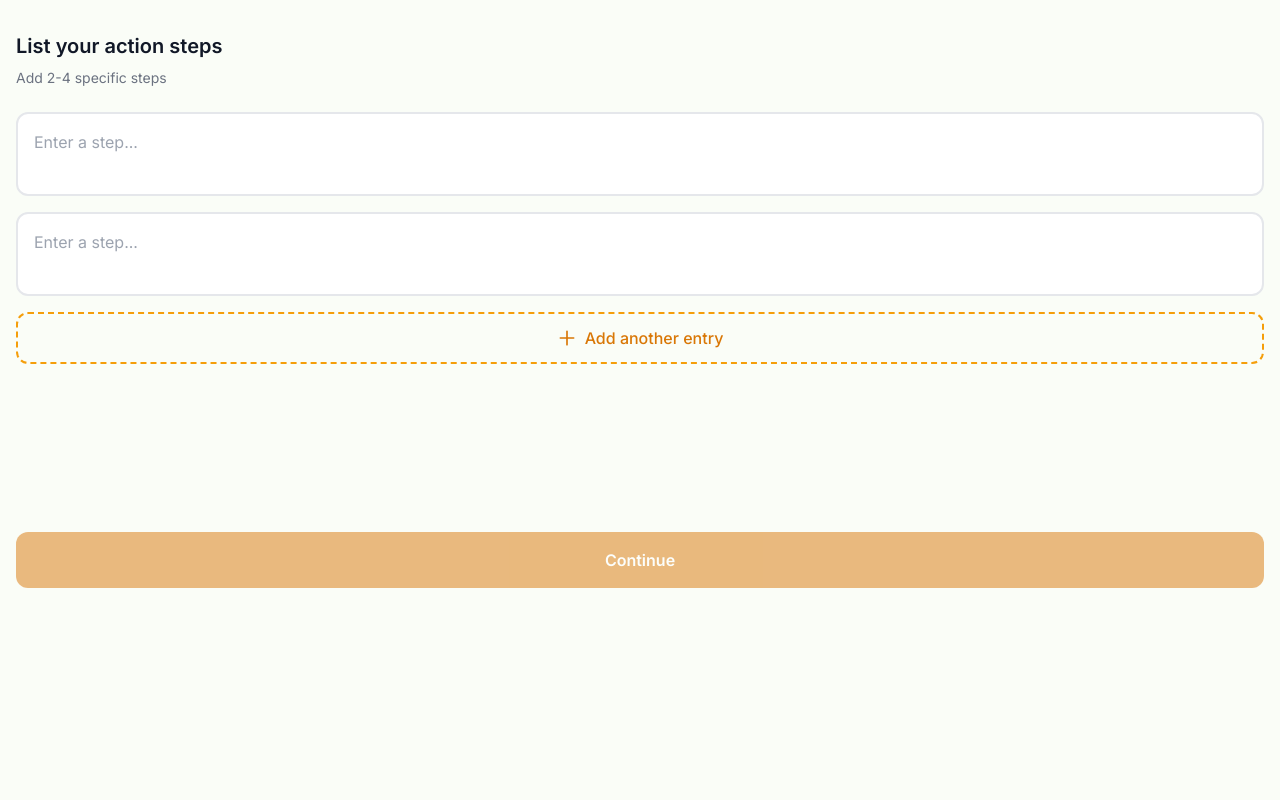
Test case: TextInput › multiple inputs mode › adds new entry when Add button is clicked
Click the button "Add another entry": point(640, 338) [16,312,1264,364]
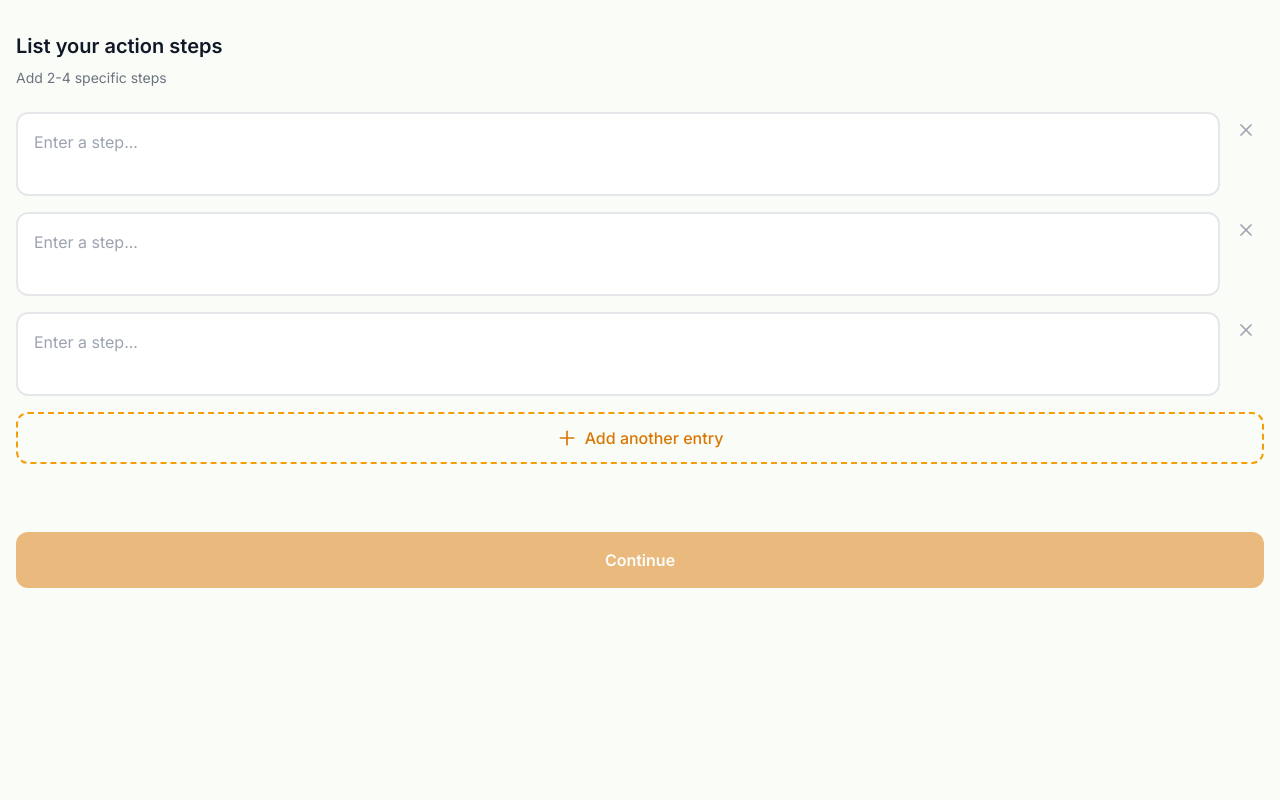
Now the number of text boxes is 3, box [16,112,1220,196]; [16,212,1220,296]; [16,312,1220,396]
